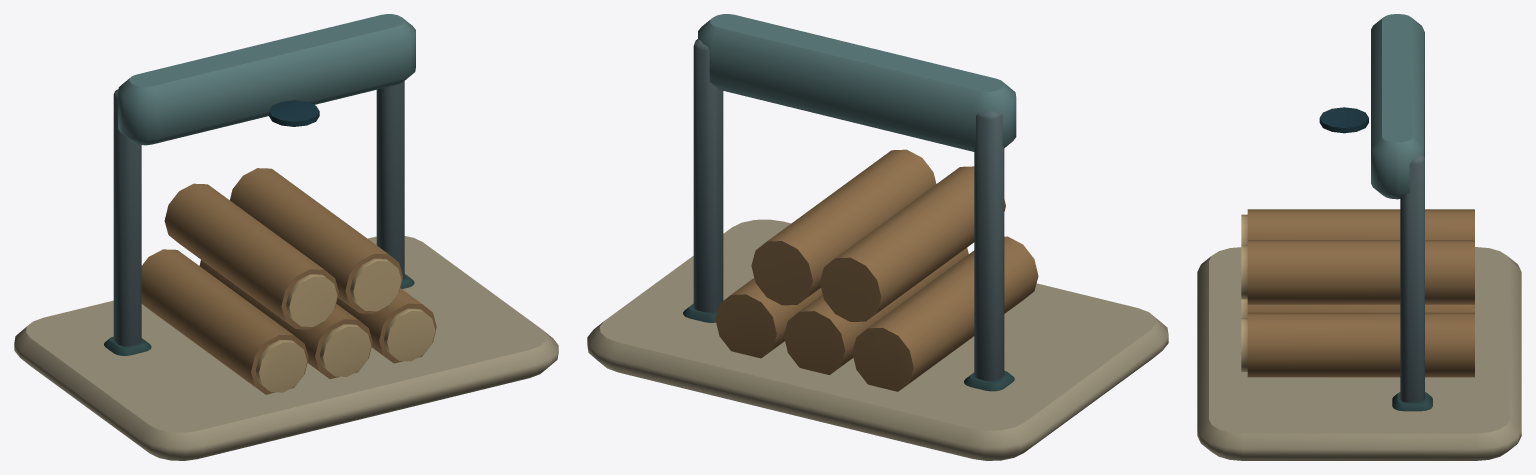
File: event_timber_convoy.glb
3 views of the same model, side by side, from view 1: azimuth 30°, elevation 25°; view 2: azimuth 150°, elevation 25°; view 3: azimuth 270°, elevation 25° (orthographic). The views are drawn at different scales.
Visible parts, largest first — view 1: EventTimberConvoy; view 2: EventTimberConvoy; view 3: EventTimberConvoy.
Part boxes in pixels (x1,y1,x2,y2): EventTimberConvoy: (14,14,558,460); EventTimberConvoy: (587,14,1168,460); EventTimberConvoy: (1197,14,1521,460).
Bounding box in the file's own units: 2.45 × 1.68 × 1.71.
